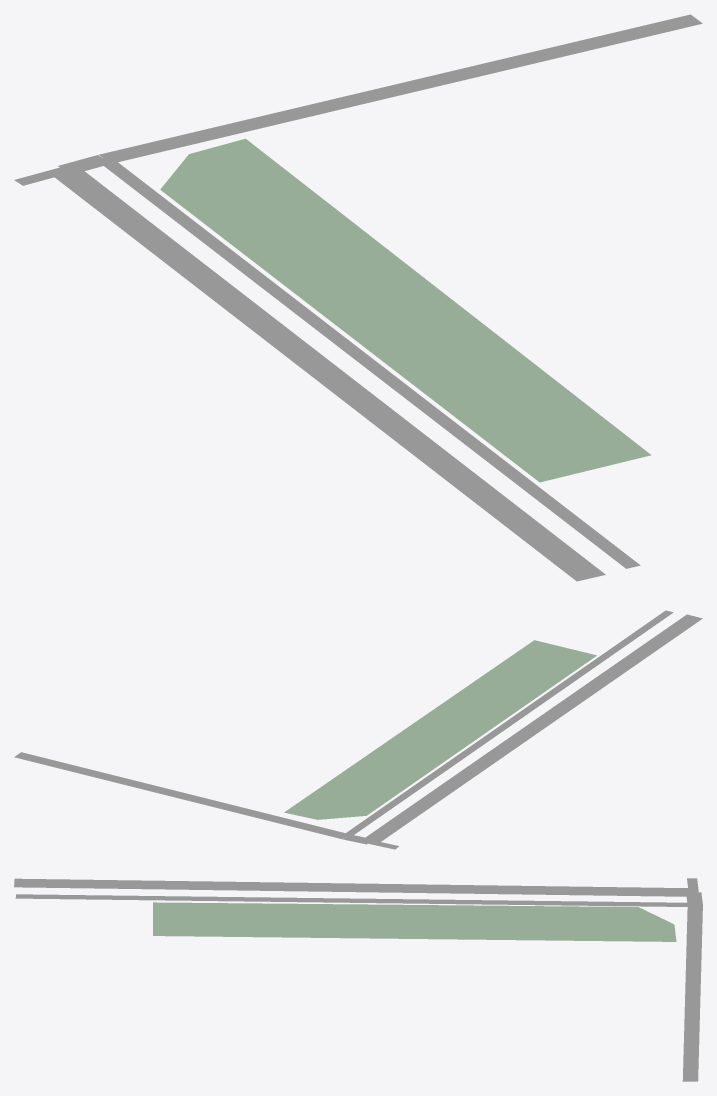
3 renders of one model, top to bottom at view 1: azimuth 30°, elevation 25°; view 2: azimuth 150°, elevation 25°; view 3: azimuth 270°, elevation 25°, orthographic. The views are drawn at different scales.
Size of the model in its own units: 329 by 1.54 by 471.
